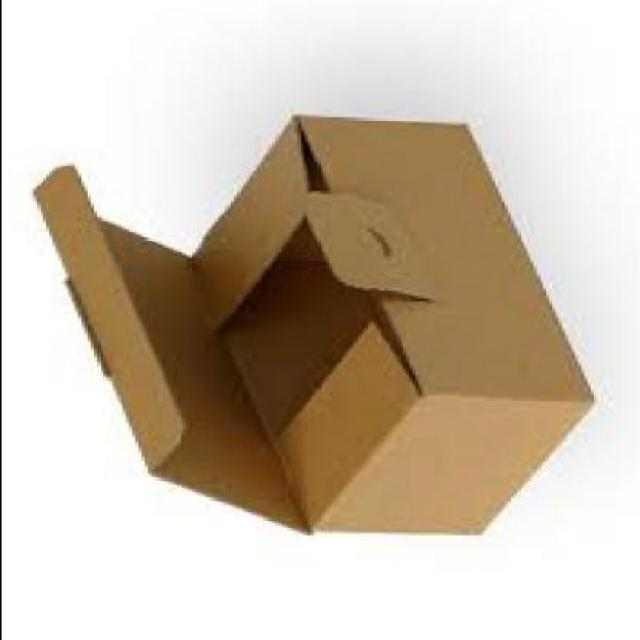cardboard: (26, 120, 589, 538)
